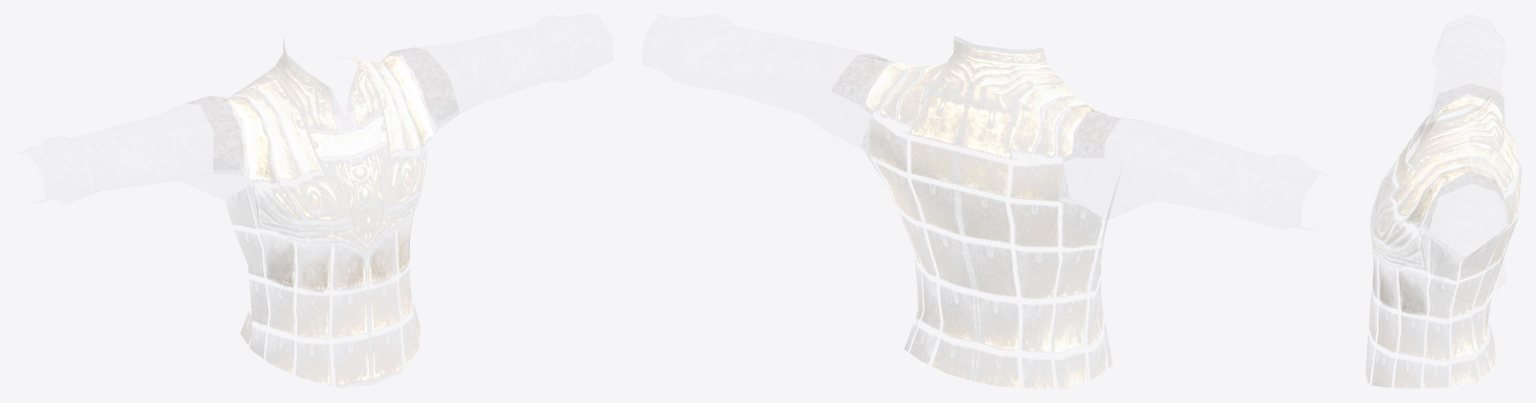
The model's file is heavy_03_ba.glb.
3 views of the same model, side by side, from view 1: azimuth 30°, elevation 25°; view 2: azimuth 150°, elevation 25°; view 3: azimuth 270°, elevation 25° (orthographic). The views are drawn at different scales.
Parts seen in each view (by area): view 1: heavy_03_ba; view 2: heavy_03_ba; view 3: heavy_03_ba.
Part boxes in pixels (<box>): heavy_03_ba: <box>186,39,459,386</box>; heavy_03_ba: <box>831,36,1131,388</box>; heavy_03_ba: <box>1365,84,1521,388</box>.
Bounding box in the file's own units: 1.05 × 0.5432 × 0.2753.
Materials: 1 (1 with a texture image).
